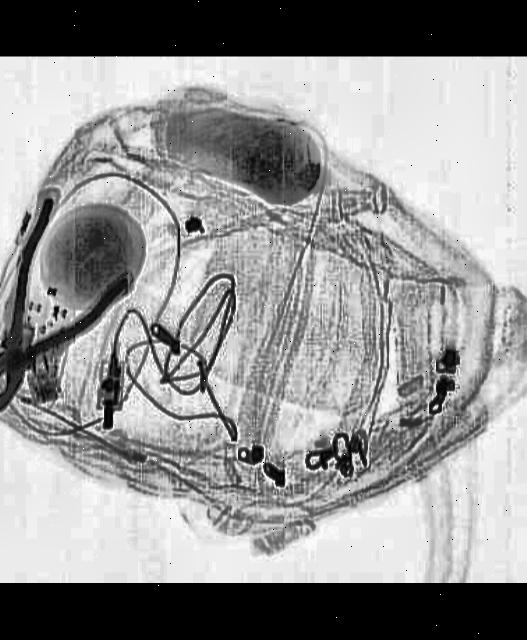Pliers: (0, 200, 151, 437)
